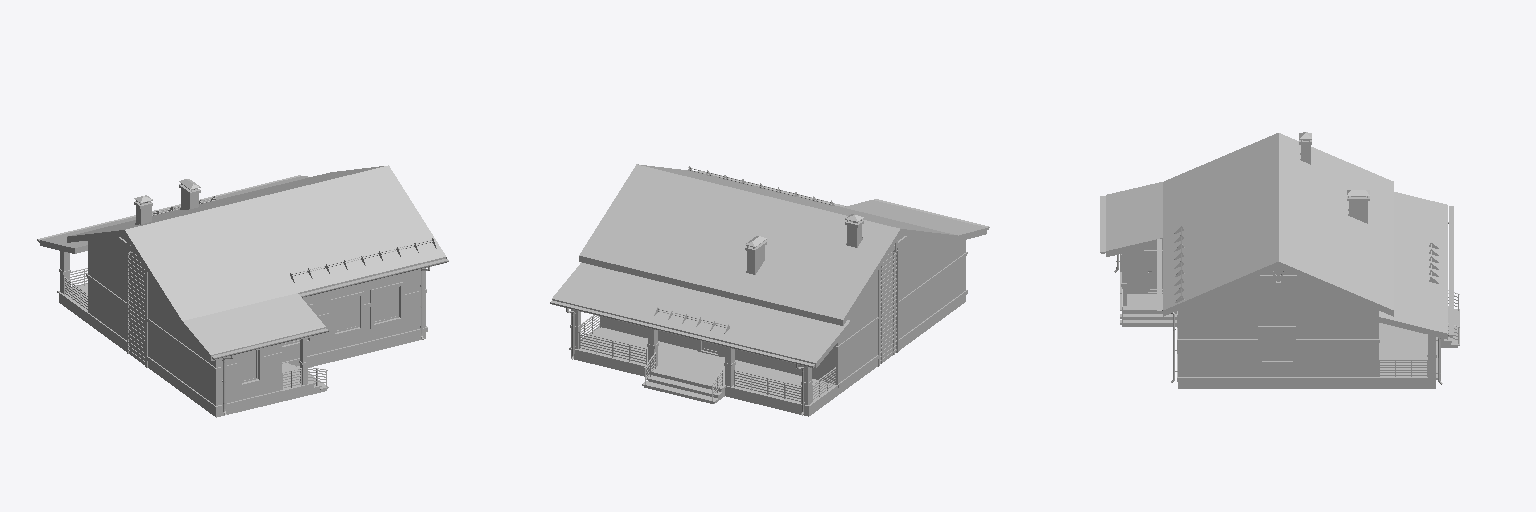
File: house_1.obj
3 views of the same model, side by side, from view 1: azimuth 30°, elevation 25°; view 2: azimuth 150°, elevation 25°; view 3: azimuth 270°, elevation 25° (orthographic).
Visible parts, largest first — view 1: house_1; view 2: house_1; view 3: house_1.
Boxes of the visible parts, x1=… form: house_1: x1=37, y1=165, x2=448, y2=417; house_1: x1=550, y1=164, x2=989, y2=416; house_1: x1=1100, y1=132, x2=1459, y2=388.
Size of the model in its own units: 1.01 by 0.5498 by 1.19.